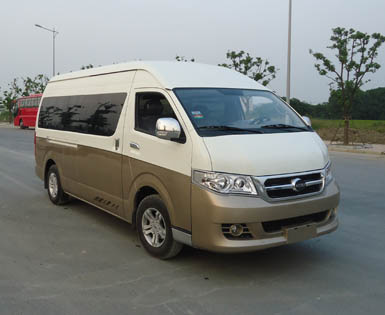midcar: (34, 63, 340, 271)
